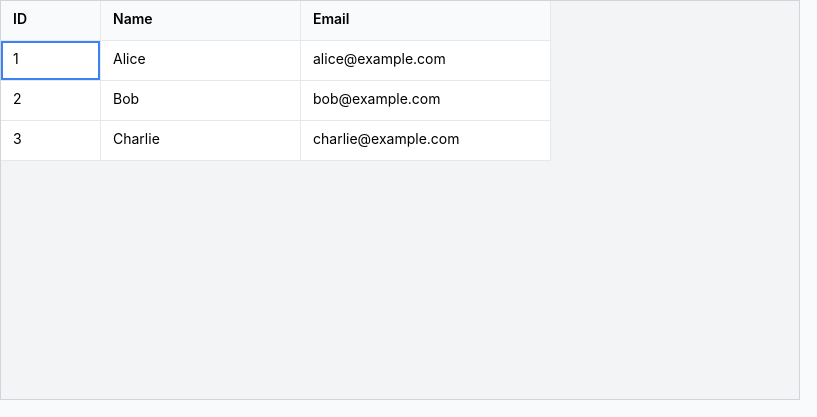
Test: DataGrid › Cell Editing › enters edit mode on Enter key
Click the text "Alice" at point(201, 61), box [101,41,301,81]
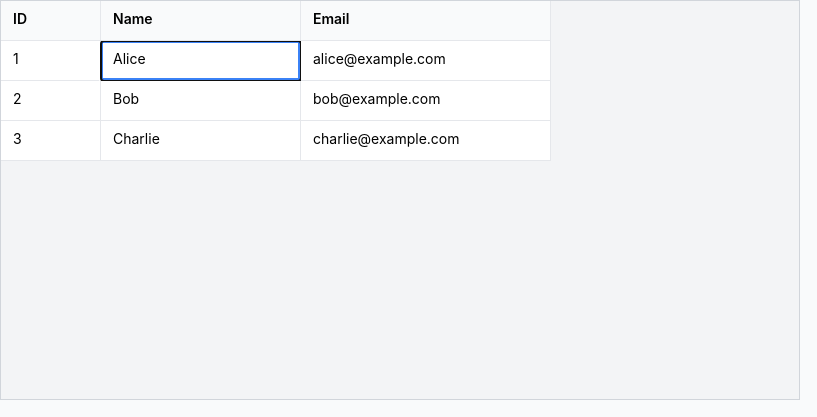
Note: Press Enter to edit
Press Enter
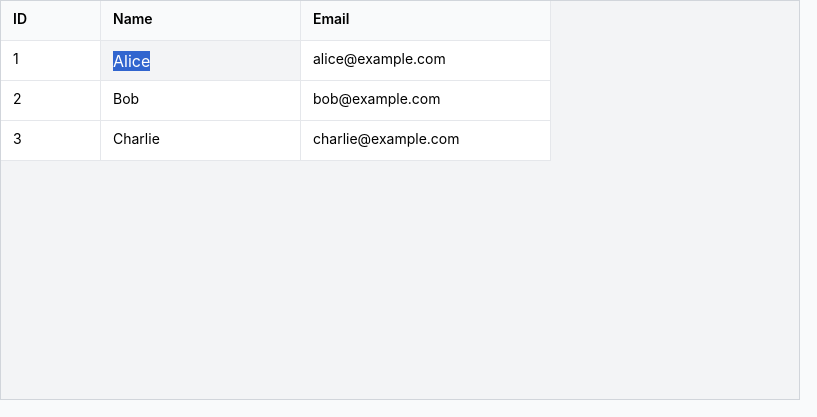
Expected: the field showing "Alice" is shown, [113,50,288,72]
